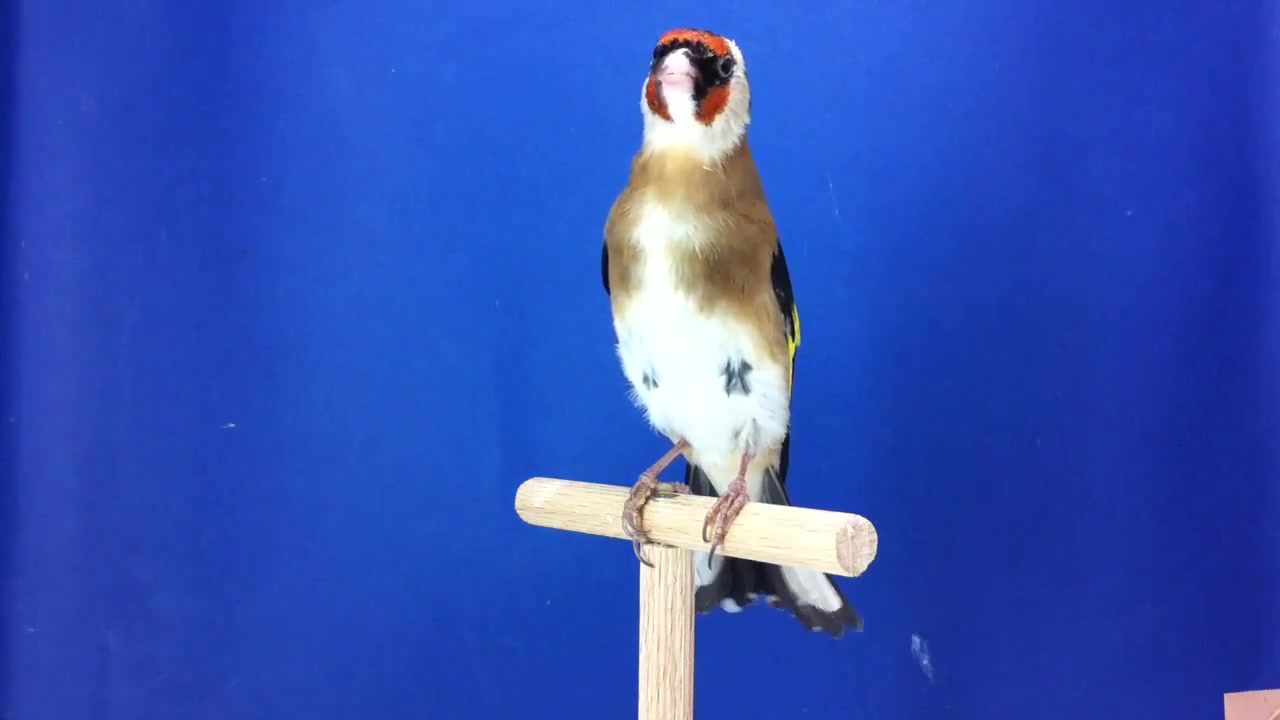bird: (600, 28, 868, 639)
